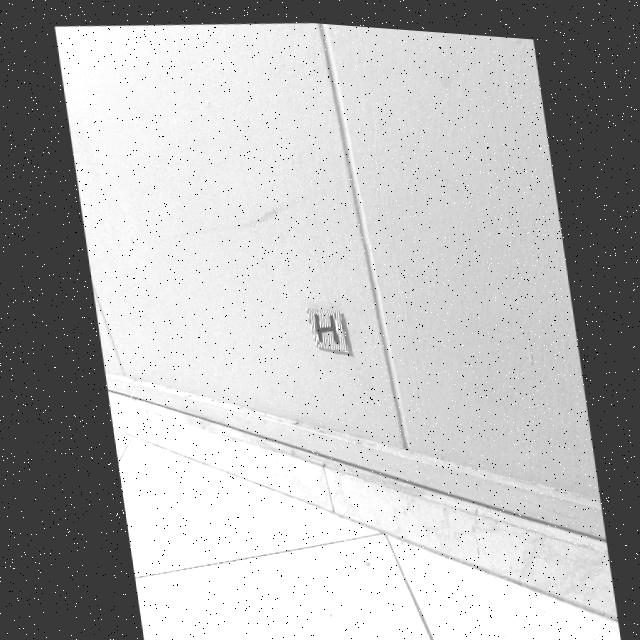H: (311, 309, 335, 339)
